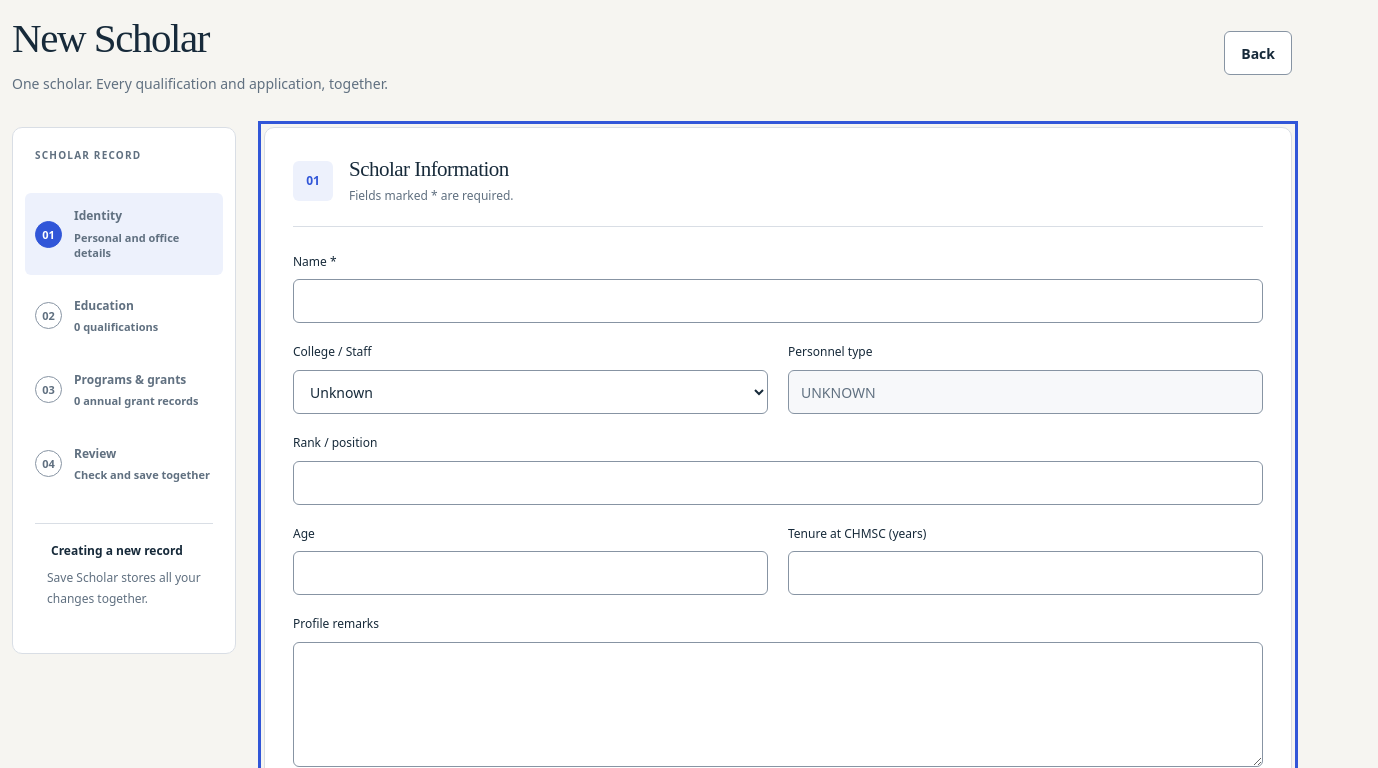
Test case: step navigation focuses the current panel without adding unmanaged browser history
Click the button "03 Programs & grants 0 annual grant records".
click(124, 390)  # box left=25, top=357, right=223, bottom=423
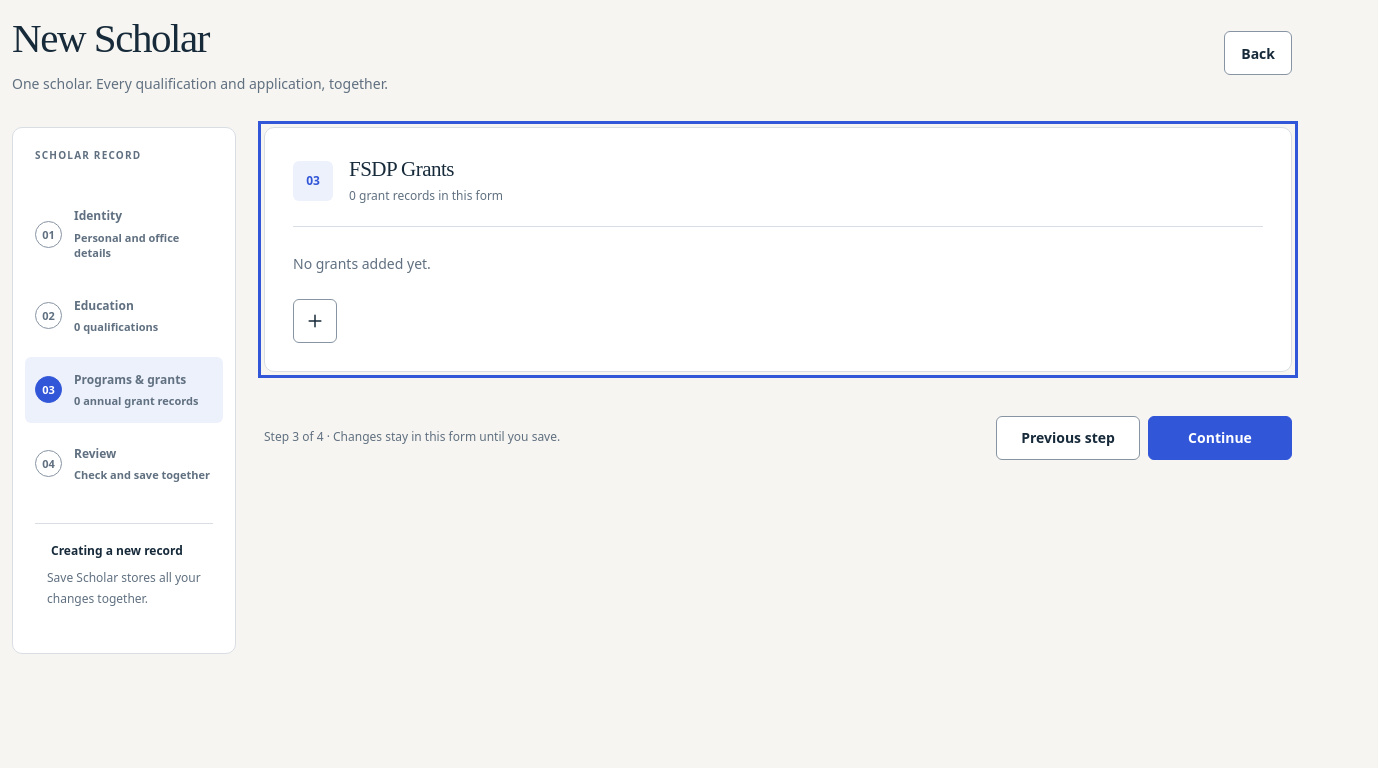
expect the heading "FSDP Grants" is shown: met, box left=349, top=157, right=454, bottom=181
